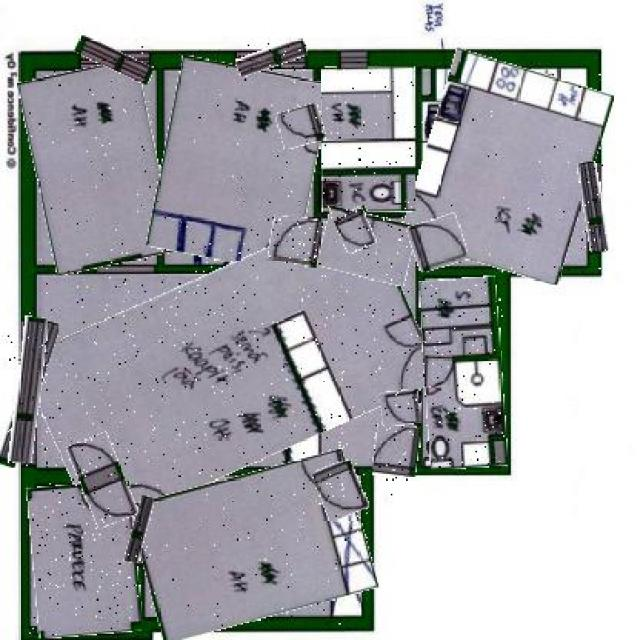door: (74, 434, 132, 524), (409, 216, 466, 270), (317, 462, 366, 520), (269, 218, 322, 268), (374, 425, 418, 480), (278, 104, 324, 148), (337, 211, 374, 251), (382, 390, 422, 424), (426, 357, 454, 391)
window: (8, 320, 48, 469), (12, 317, 45, 463), (74, 43, 154, 77), (582, 162, 606, 252), (237, 43, 308, 71), (128, 495, 150, 563), (337, 49, 368, 71)
zone: (29, 240, 431, 498), (412, 58, 602, 276), (135, 462, 371, 629), (156, 61, 322, 268), (26, 64, 166, 270), (30, 481, 138, 637), (422, 277, 504, 469), (322, 68, 416, 212), (320, 210, 415, 282)
